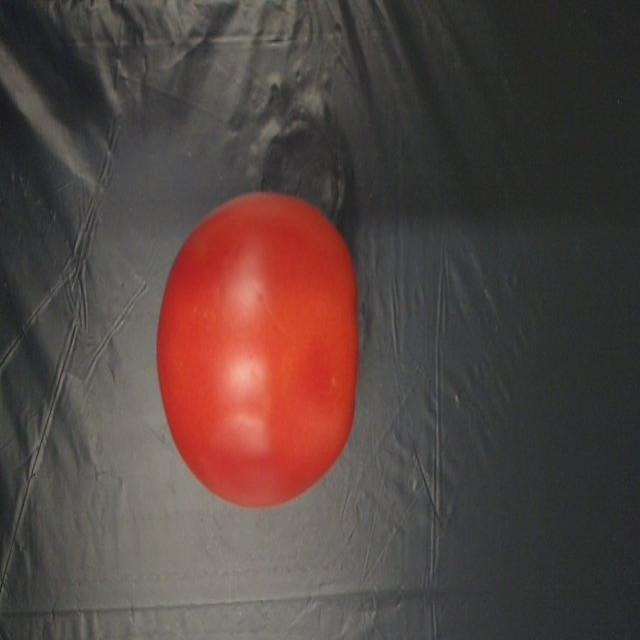kirmizi: (157, 179, 363, 512)
